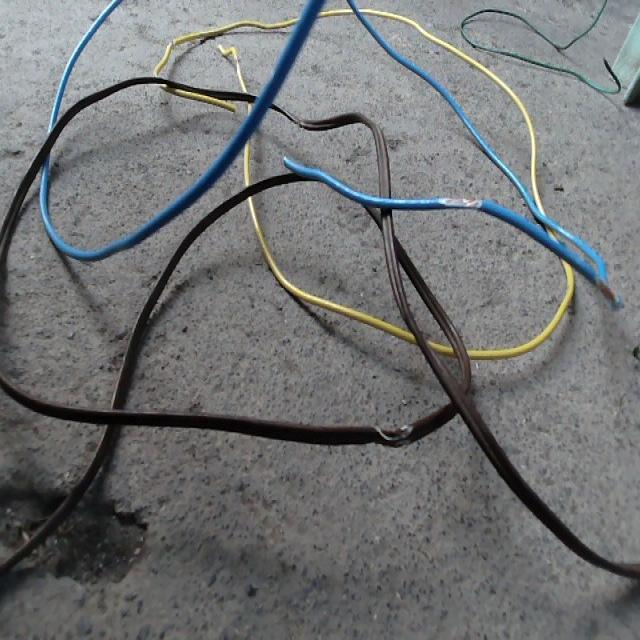-: (375, 421, 412, 447), (593, 272, 619, 305), (440, 196, 482, 208)
